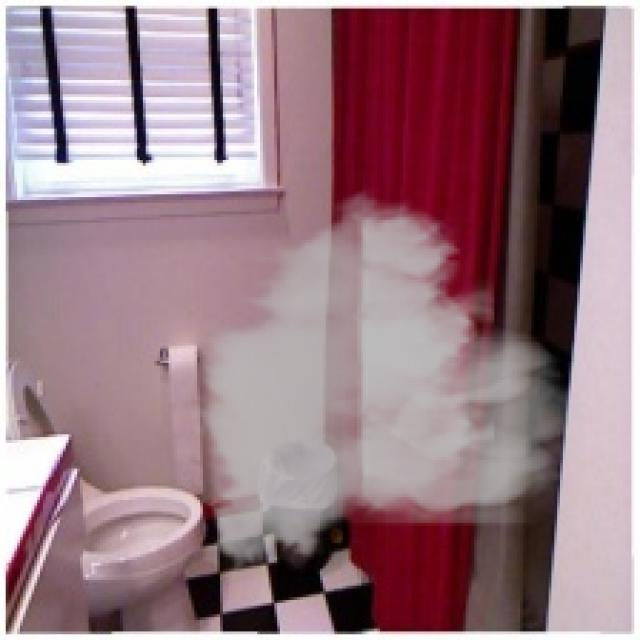smoke: (185, 180, 586, 586)
